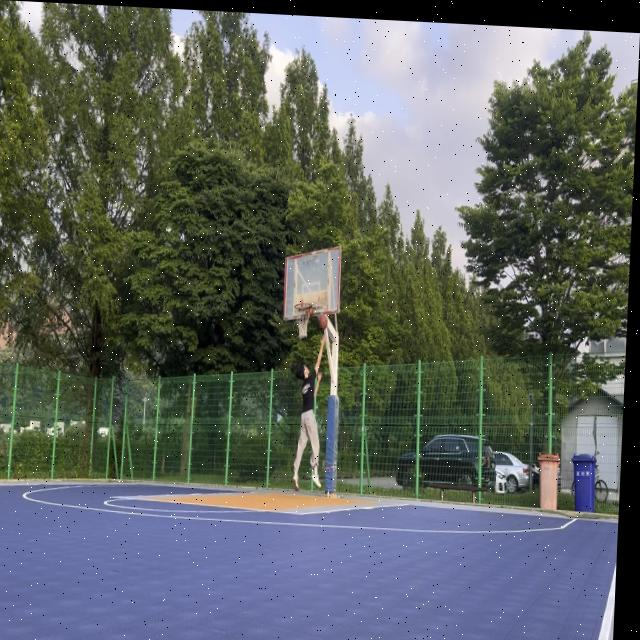basketball: (318, 314, 329, 331)
hoop: (293, 302, 312, 339)
